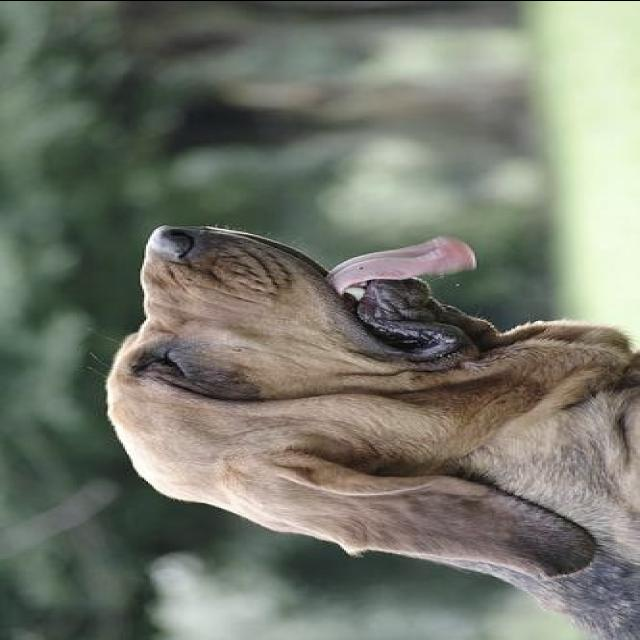bloodhound: (76, 224, 636, 640)
